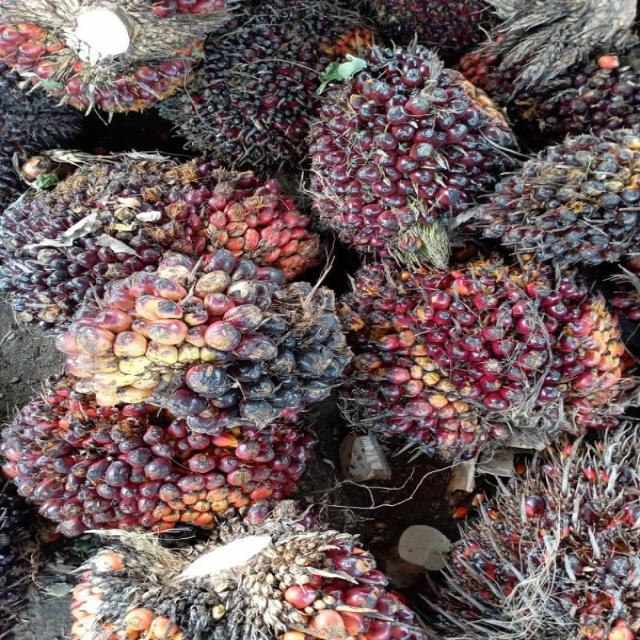fraksi 00: (54, 262, 354, 449), (481, 123, 640, 272)
fraksi 1: (343, 257, 629, 462), (294, 47, 521, 256), (9, 385, 322, 530), (0, 149, 250, 326)
fraksi 4: (195, 194, 326, 272)
